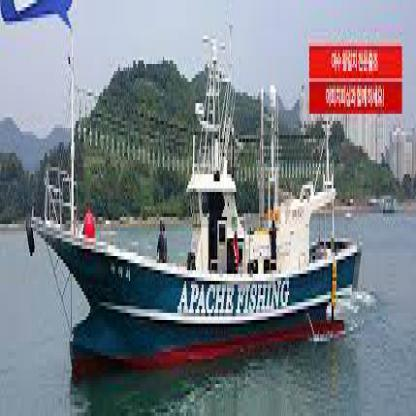fish-b: (20, 11, 366, 384)
